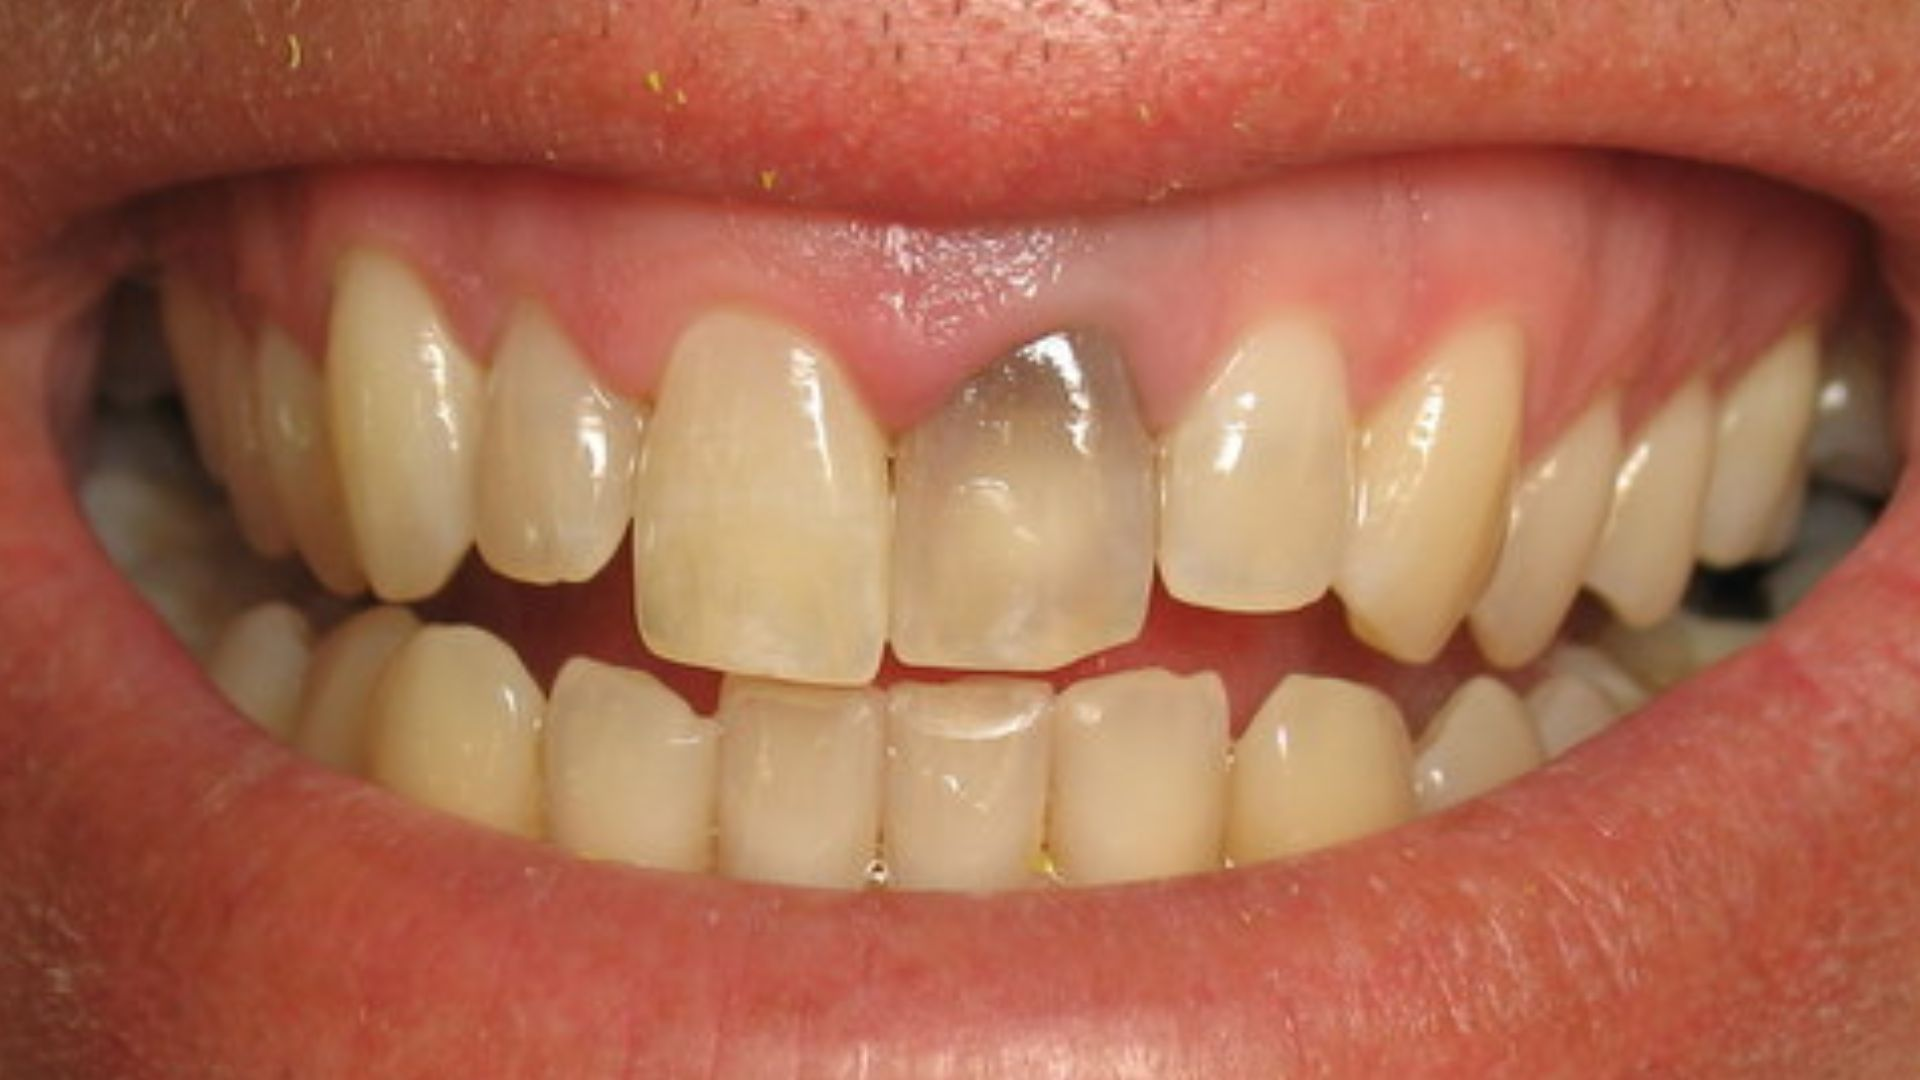LL1BC_healthy: (1400, 661, 1549, 806)
LLCI_healthy: (884, 675, 1051, 895)
LLC_healthy: (1236, 669, 1418, 848)
LLLI_healthy: (1065, 673, 1240, 880)
LRCI_healthy: (724, 673, 884, 894)
LRC_healthy: (376, 629, 542, 836)
LRLI_healthy: (556, 667, 707, 858)
UL1BC_healthy: (1516, 384, 1617, 655)
UL1M_healthy: (1717, 336, 1815, 568)
UL2BC_healthy: (1607, 365, 1720, 629)
ULCI_decay: (878, 320, 1156, 667)
ULC_healthy: (1349, 306, 1520, 665)
ULLI_healthy: (1163, 320, 1357, 622)
URCI_healthy: (628, 315, 895, 694)
URC_healthy: (338, 262, 484, 600)
URLI_healthy: (465, 315, 646, 588)
